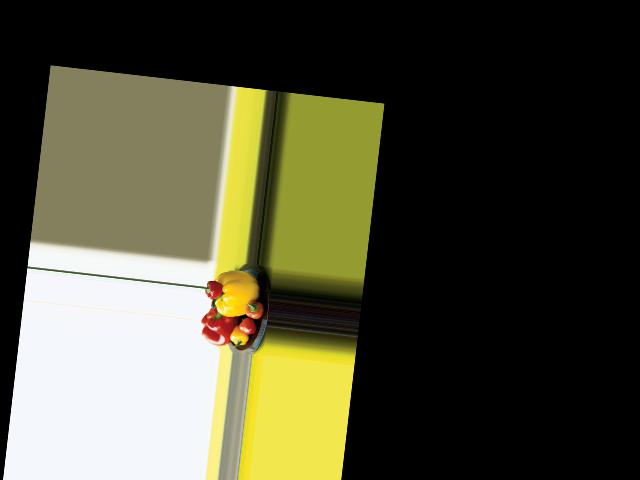bell_pepper: (228, 326, 249, 348)
